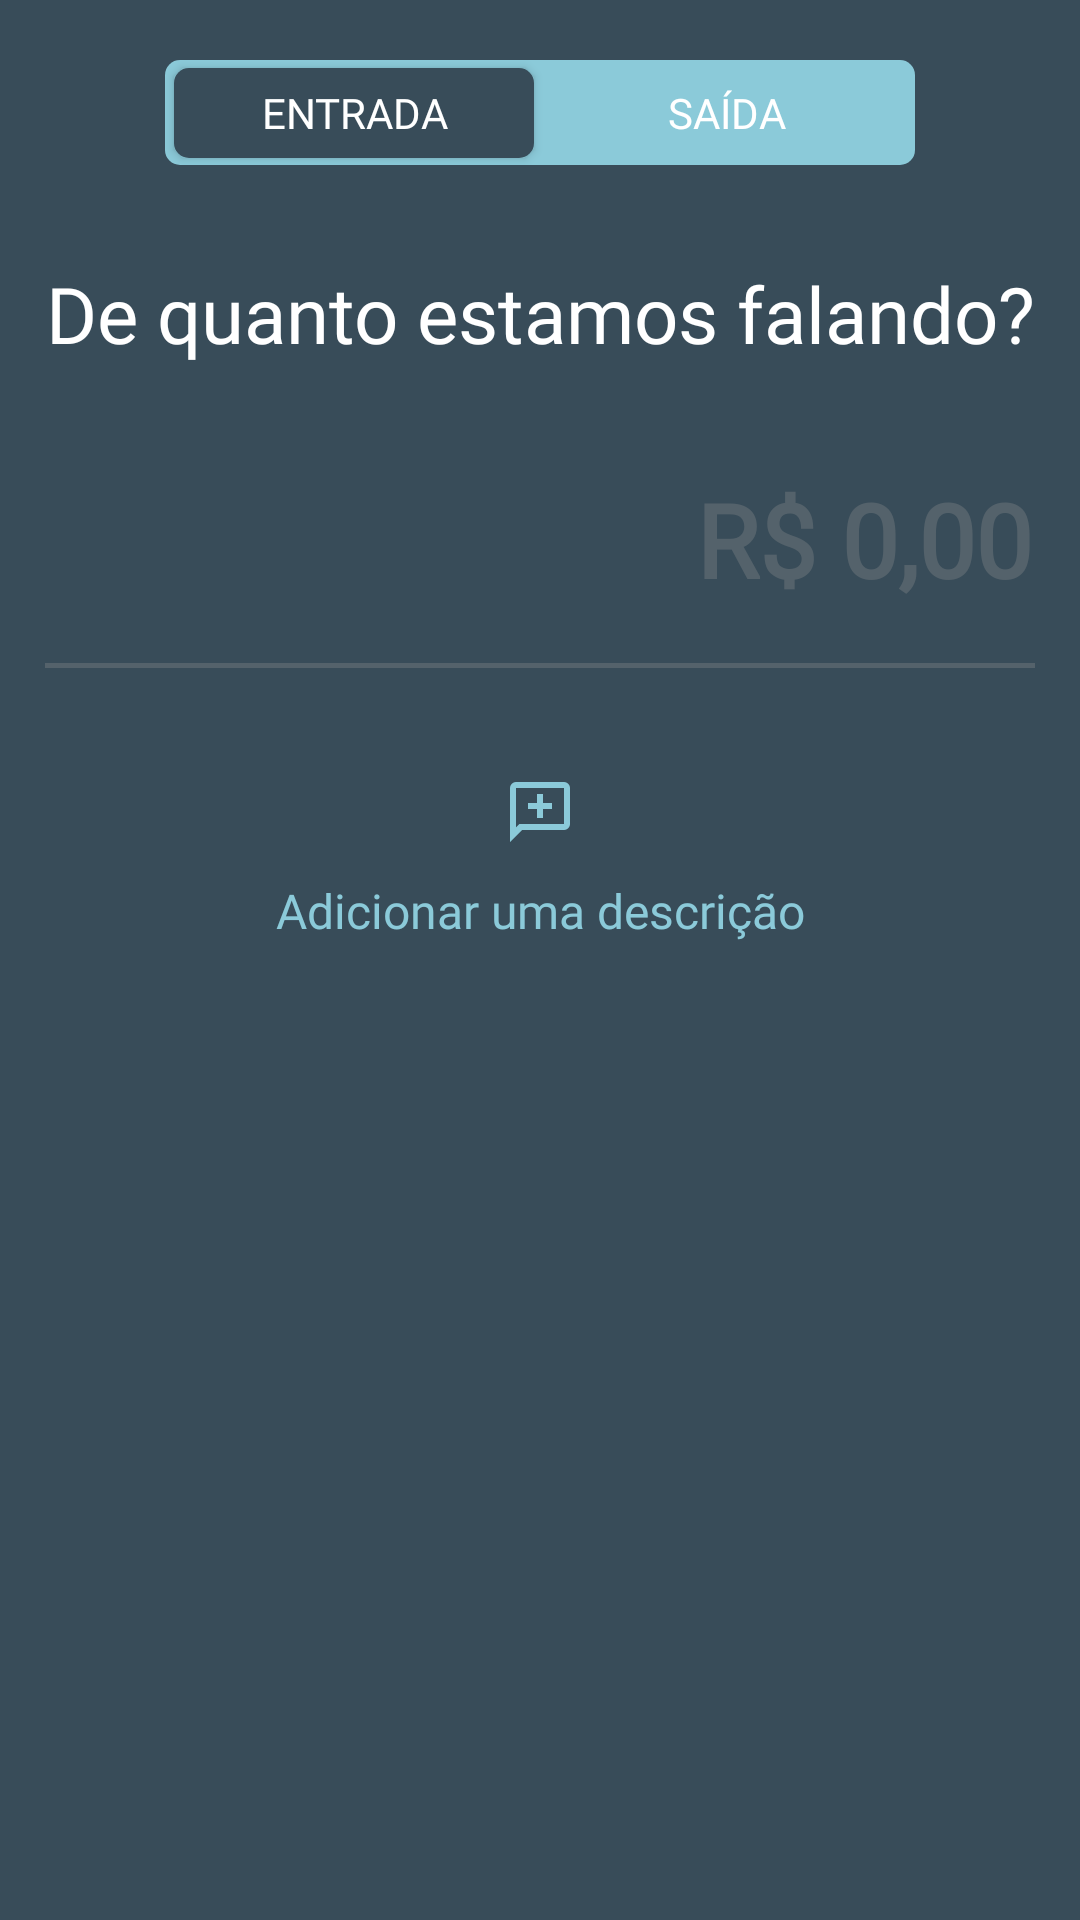

Icon click points for this 1080 × 1920 phone screenshot, format (x,y):
add comentário: (540,812)
